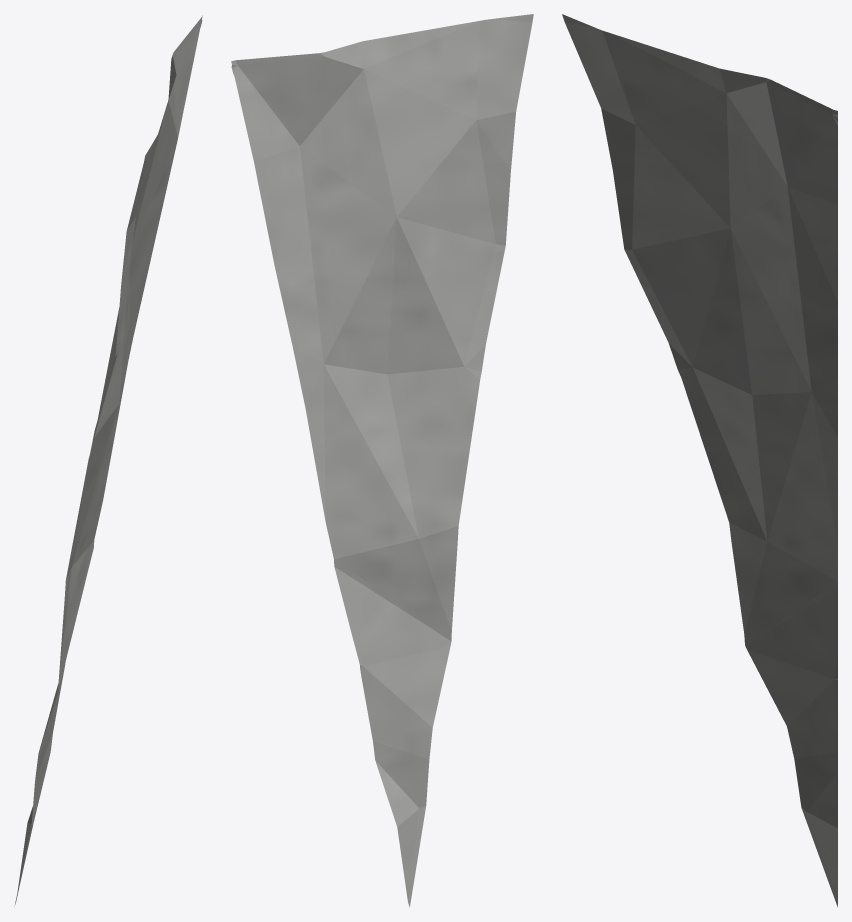
The picture shows the model from 3 angles, left to right: view 1: azimuth 30°, elevation 25°; view 2: azimuth 150°, elevation 25°; view 3: azimuth 270°, elevation 25°; orthographic projection. The views are drawn at different scales.
Bounding box in the file's own units: 0.0592 × 0.2544 × 0.0712.
1 material, 1 textured.
